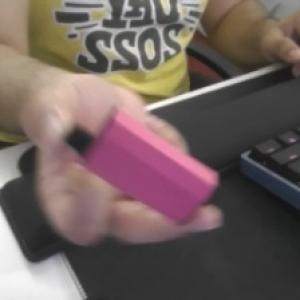Blume-E-Ciggirate: (66, 109, 220, 228)
